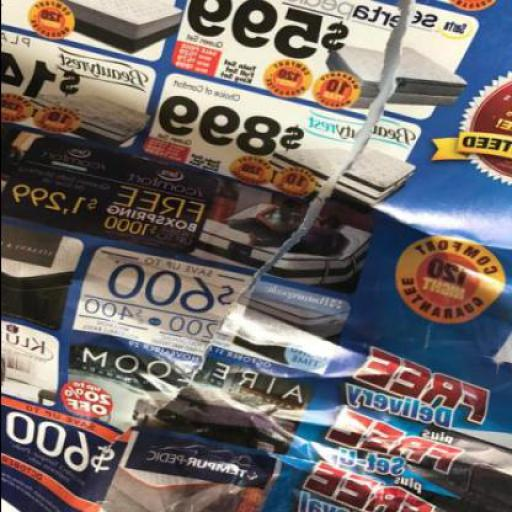paper: (0, 1, 511, 512), (85, 1, 511, 512), (1, 1, 409, 511)
